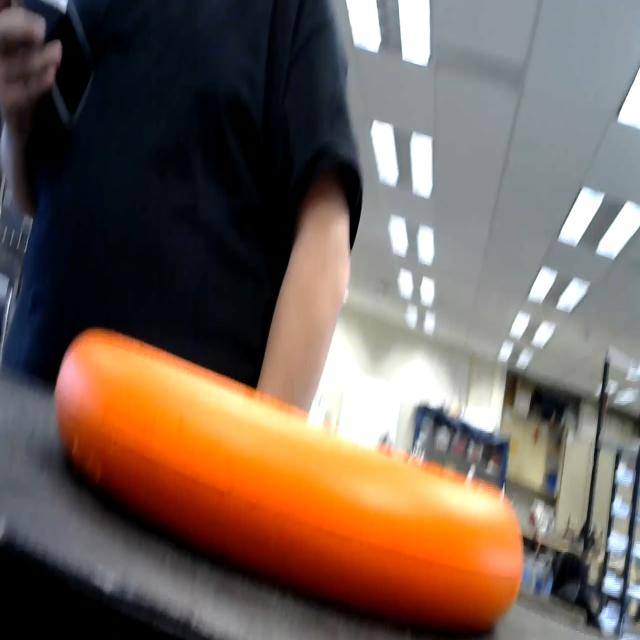note: (50, 305, 536, 640)
